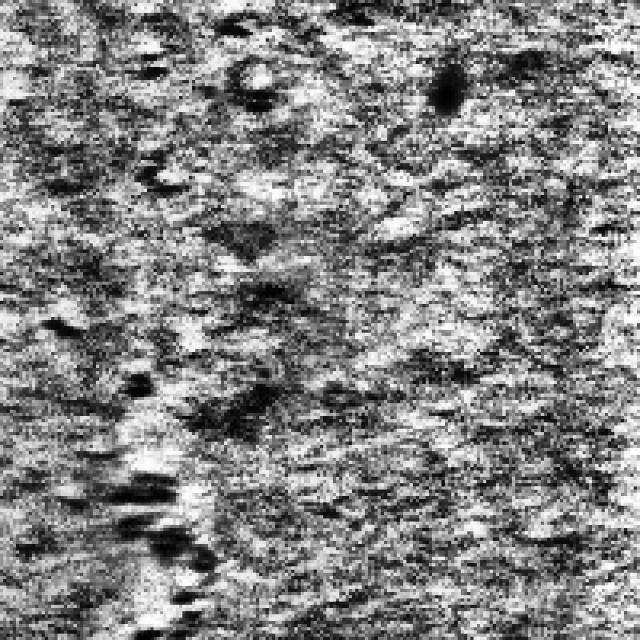Crazing: (55, 352, 212, 637), (128, 0, 269, 182)
